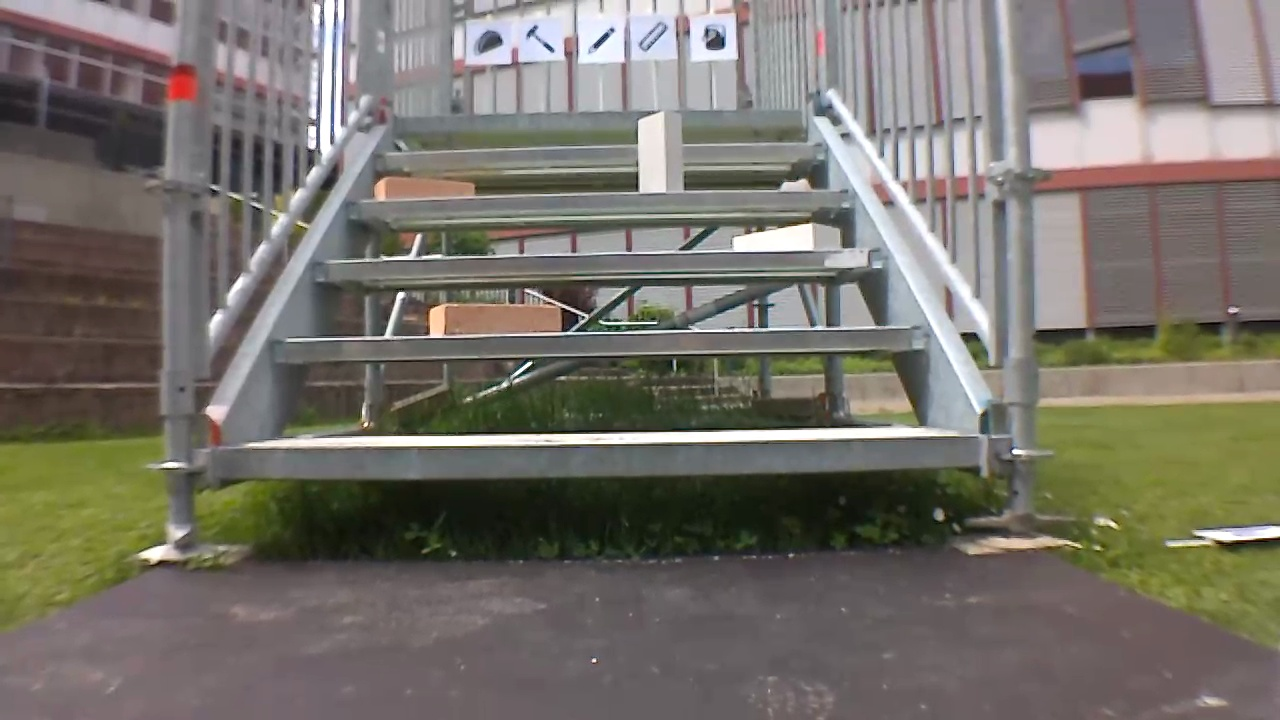brick: (430, 304, 560, 335), (639, 111, 683, 193), (731, 223, 839, 251), (375, 177, 473, 197)
bucket: (697, 21, 729, 53)
edge: (217, 434, 977, 477), (270, 325, 928, 357), (315, 248, 887, 278), (346, 190, 852, 212), (374, 141, 826, 165), (397, 108, 805, 129)
hammer: (518, 23, 559, 57)
pencil: (584, 23, 616, 58)
ruler: (633, 18, 672, 55)
stairs: (143, 1, 1062, 545)
steps: (205, 103, 986, 488)
taco: (469, 25, 506, 59)
